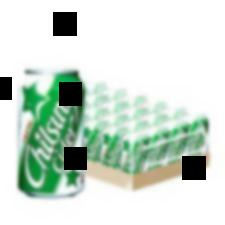chilsungcider: (17, 65, 86, 202)
